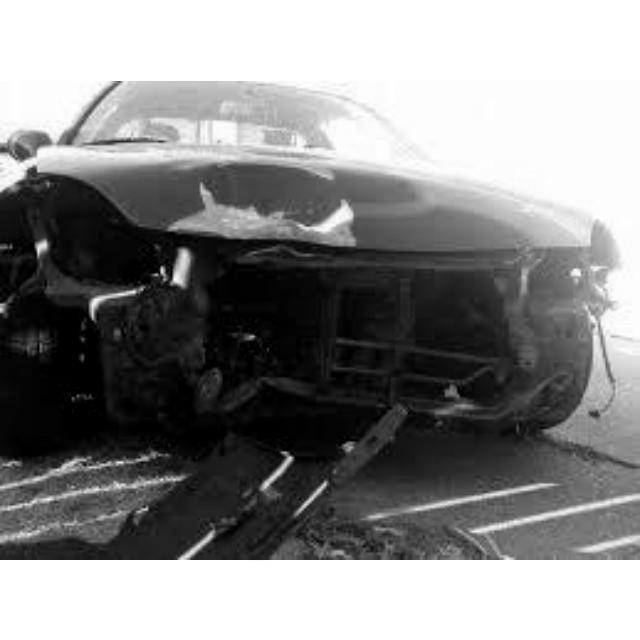bonnet-dent: (45, 140, 541, 261)
front-bumper-dent: (107, 279, 457, 424)
